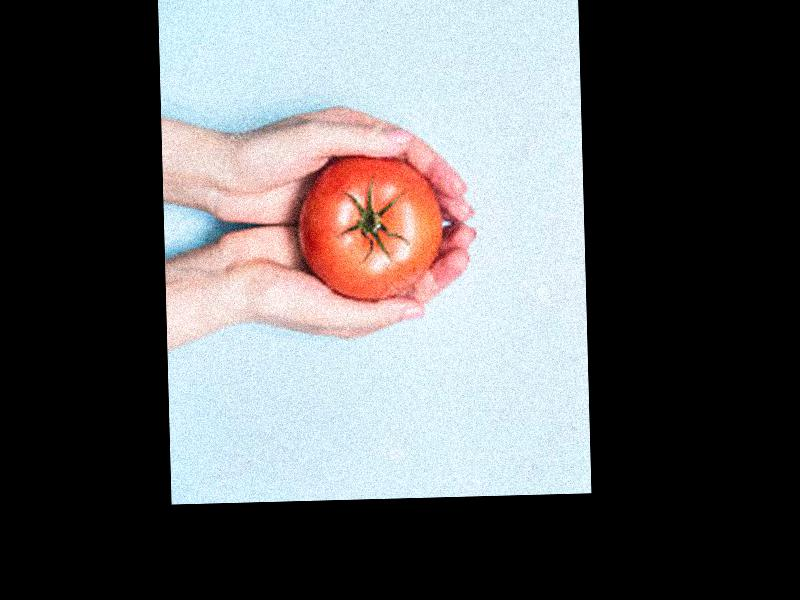Tomato: (297, 150, 443, 302)
